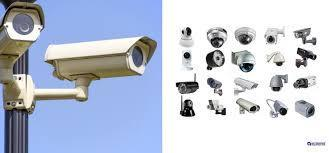tutu: (40, 33, 161, 87), (0, 0, 47, 66)
